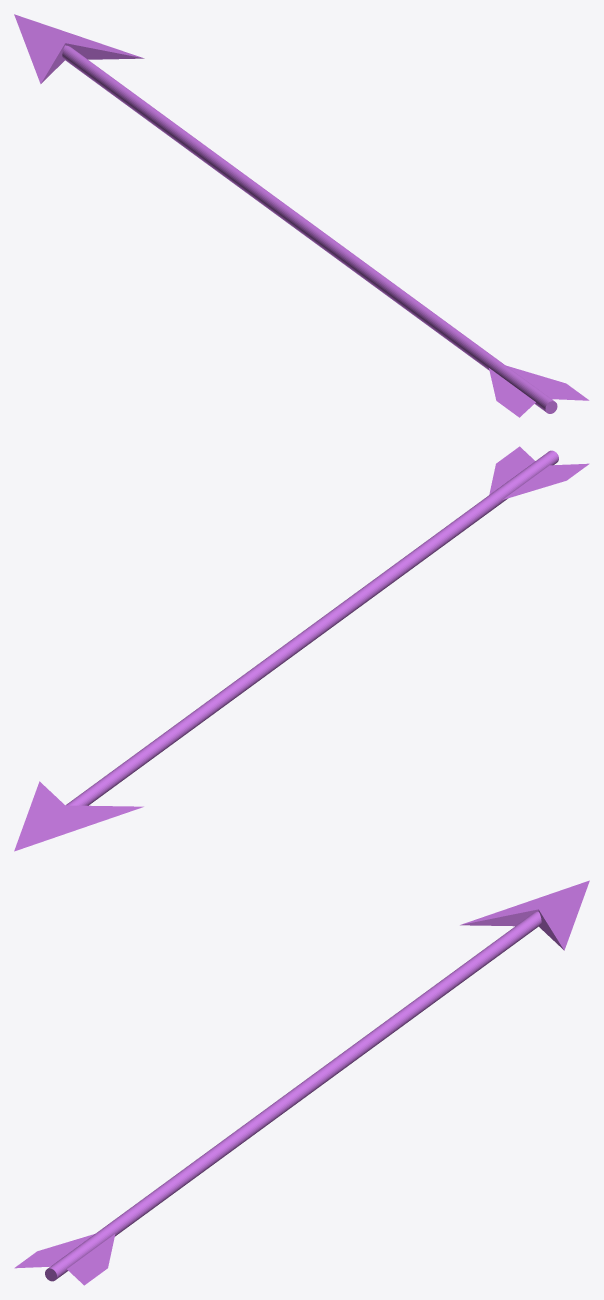
Rendered from arrow.glb.
3 views of the same model, one above another, from view 1: azimuth 30°, elevation 25°; view 2: azimuth 150°, elevation 25°; view 3: azimuth 330°, elevation 25° (orthographic).
Visible parts, largest first — view 1: Body, Head, Tail; view 2: Body, Head, Tail; view 3: Body, Head, Tail.
Part boxes in pixels (box(x1,y1,x2,y2)): Body: box(62, 45, 557, 413); Head: box(14, 14, 144, 83); Tail: box(489, 365, 589, 417); Body: box(66, 450, 558, 805); Head: box(14, 781, 143, 851); Tail: box(489, 446, 589, 499); Body: box(45, 911, 541, 1281); Head: box(460, 880, 589, 950); Tail: box(14, 1234, 115, 1285).
Bounding box in the file's own units: 1.3 × 0.2038 × 11.65.
